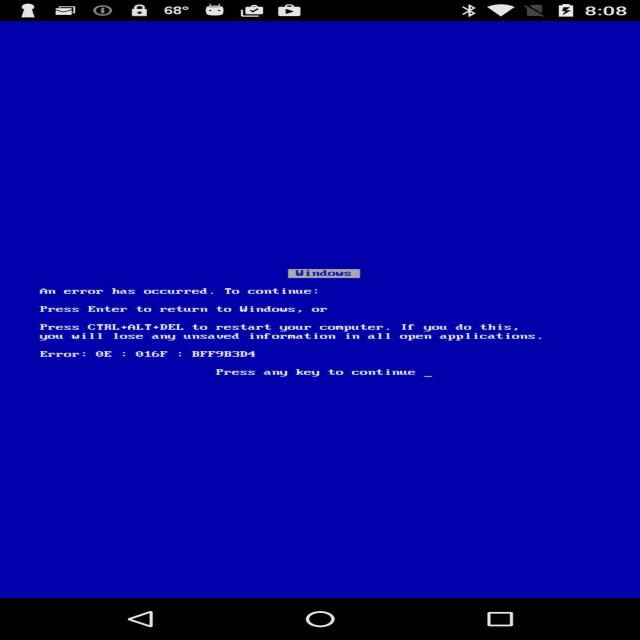text: (10, 235, 616, 420)
